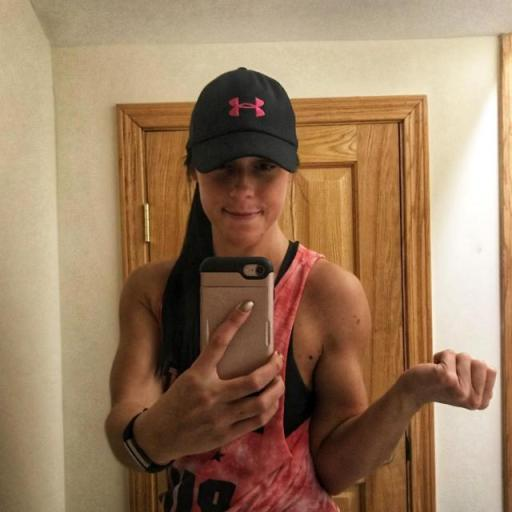Under Armour: (226, 94, 266, 120)
